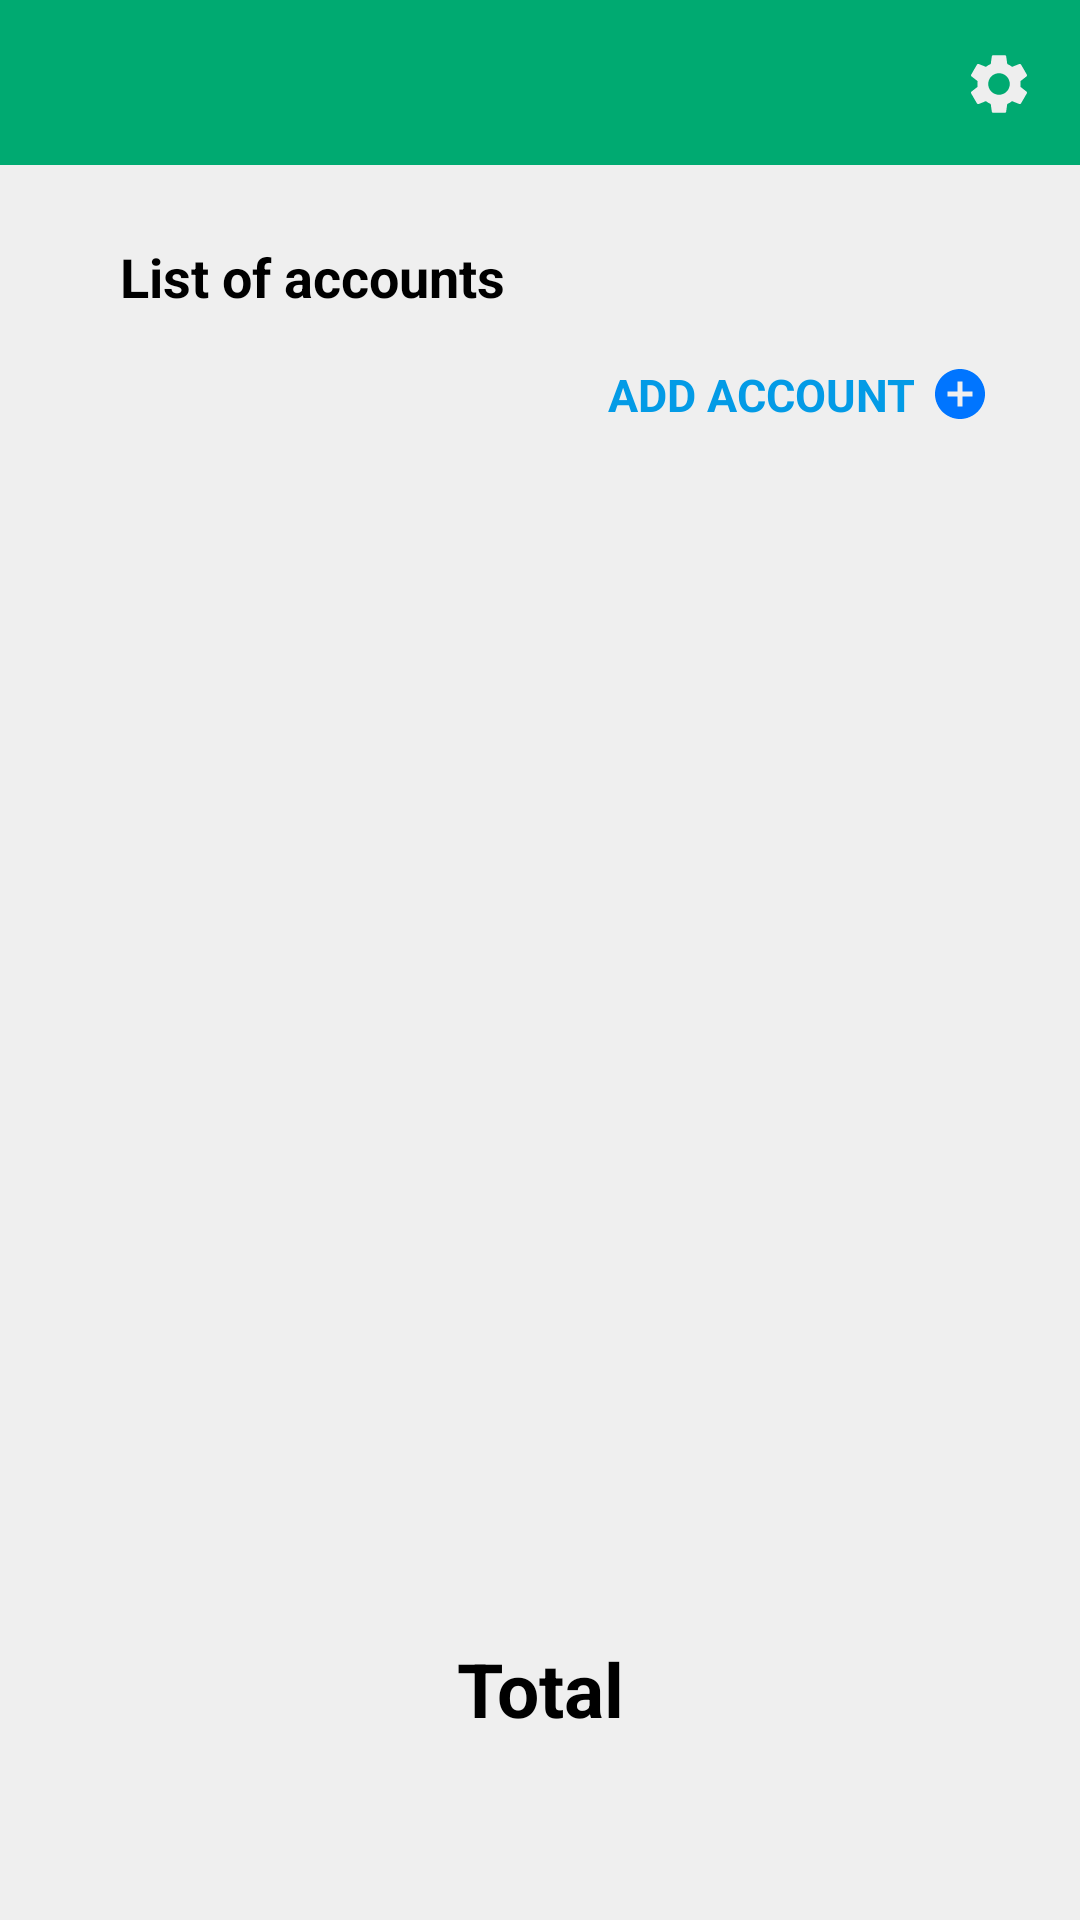

Named icons in this screenshot (1080px x 1920px) and their bounding boxes, rect(x1, y1, x2, y2):
setting: rect(971, 55, 1027, 113)
templatelist add: rect(935, 369, 985, 419)
